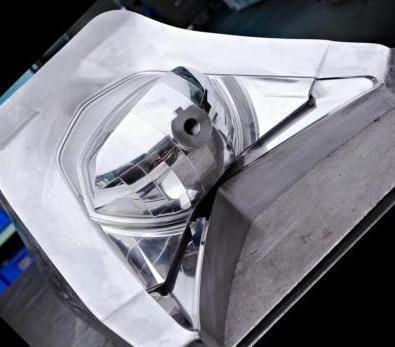hole: (177, 111, 207, 140)
